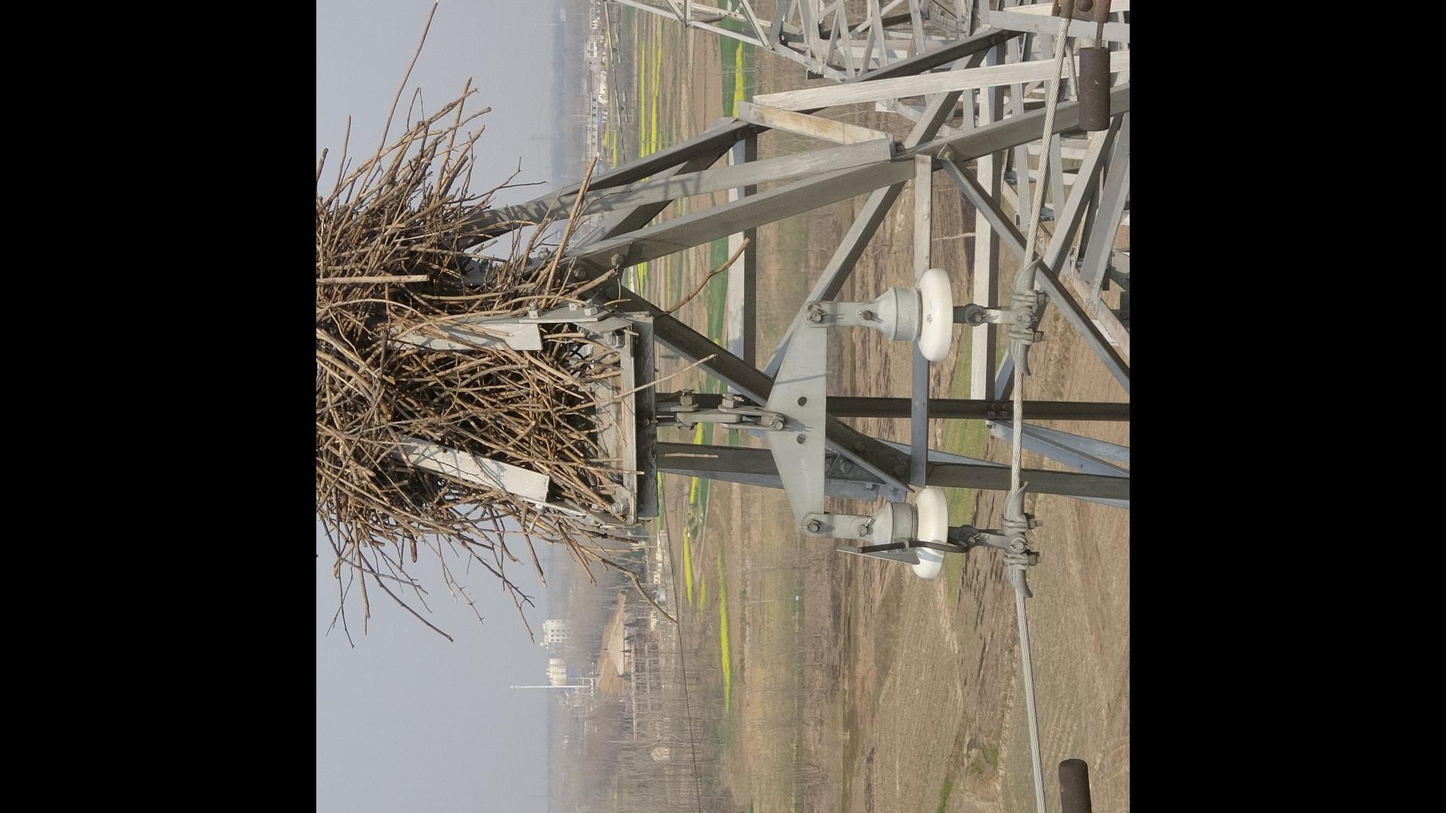nest: (317, 77, 622, 597)
